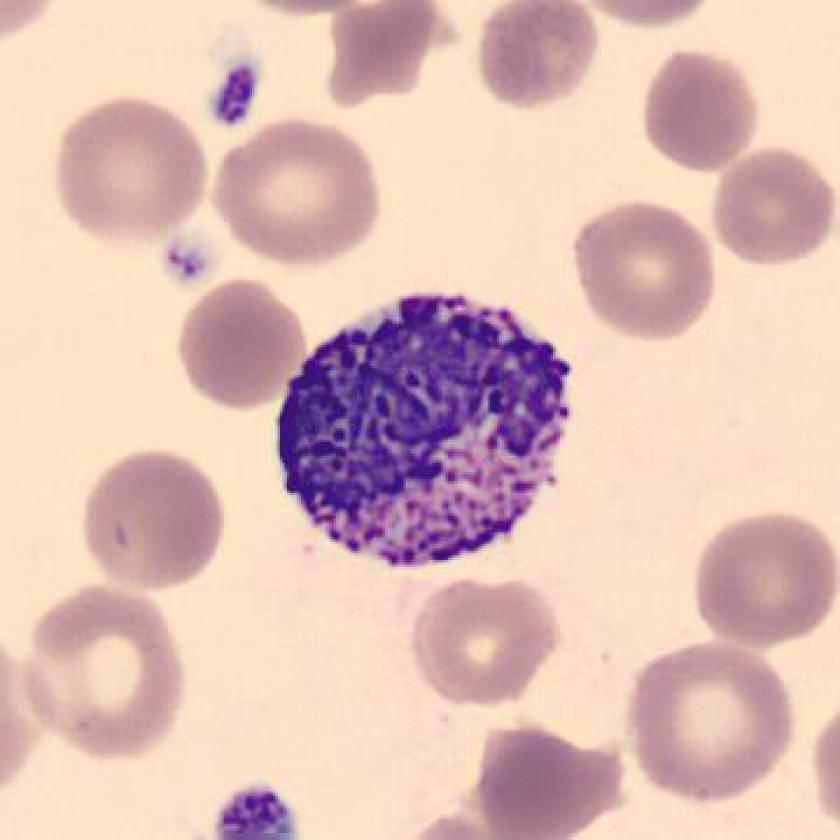basophil: (276, 279, 580, 580)
